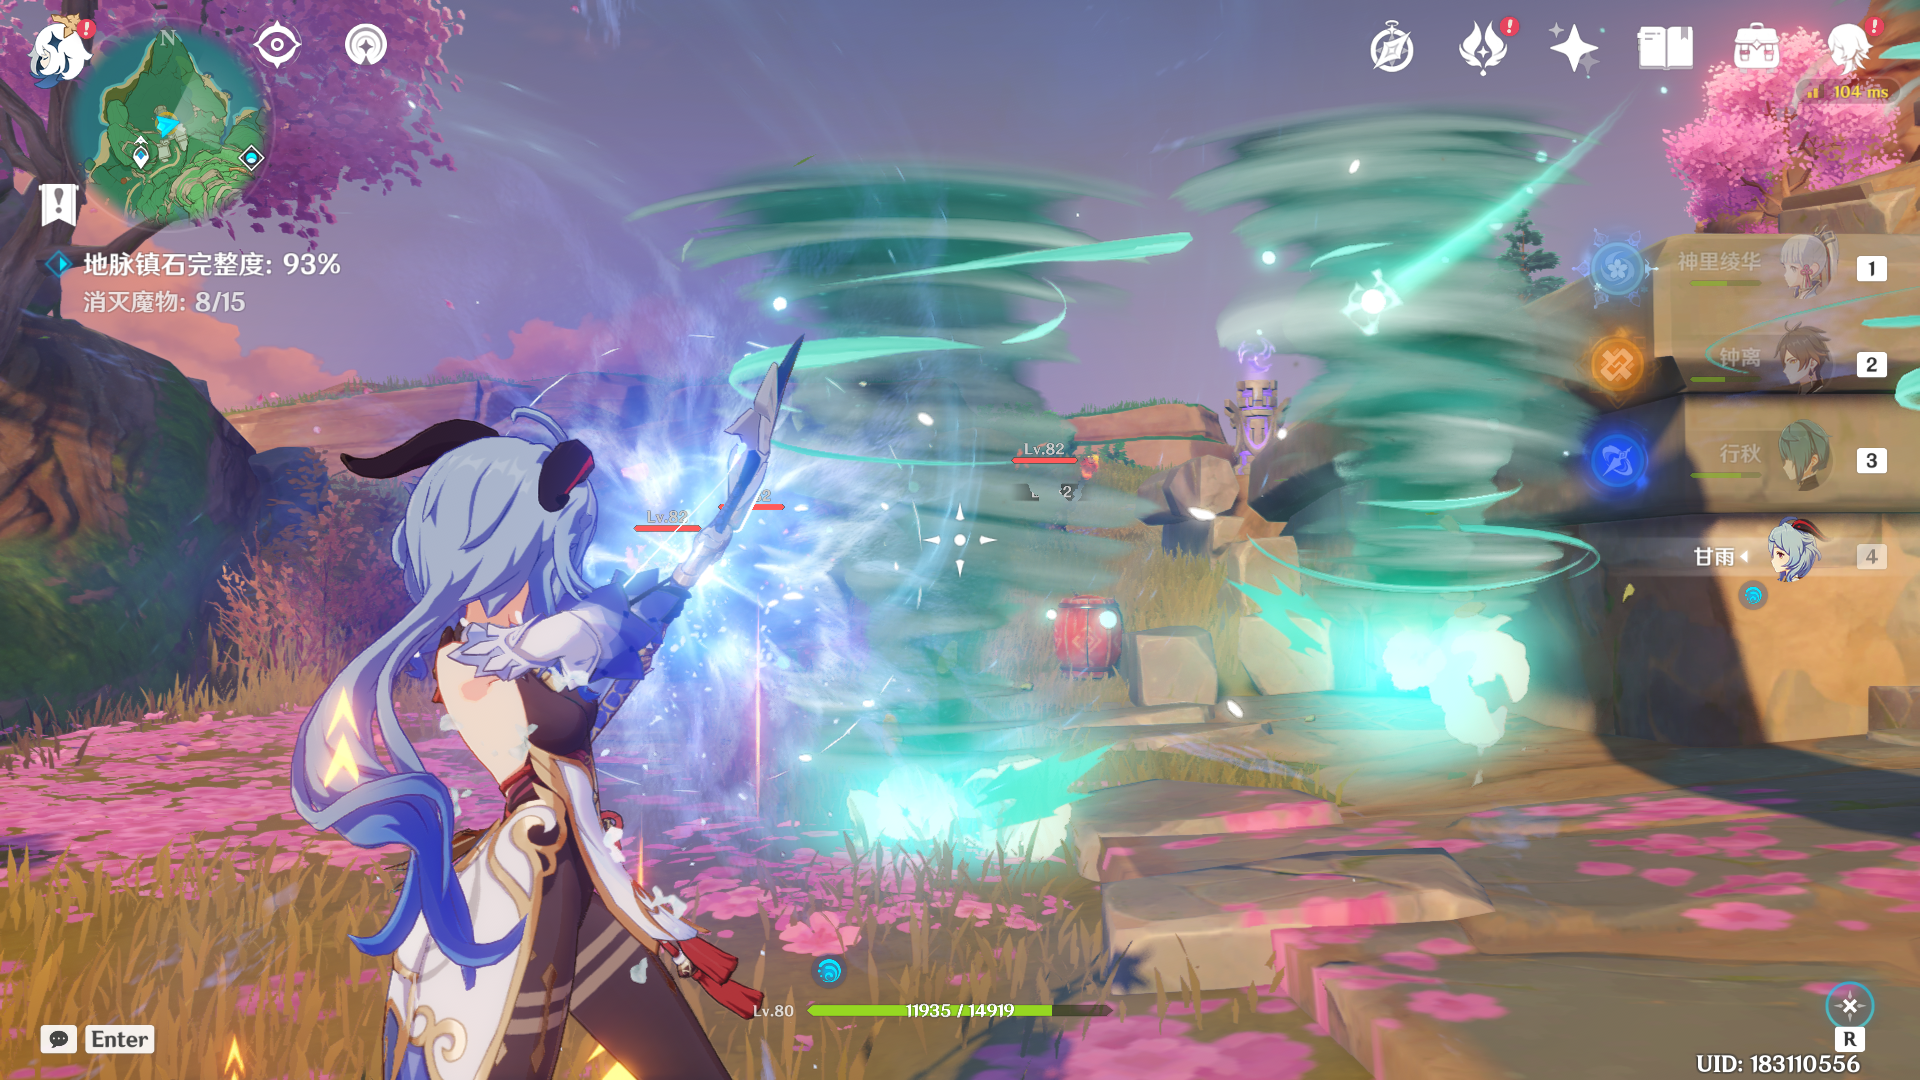character: (243, 314, 804, 1080)
